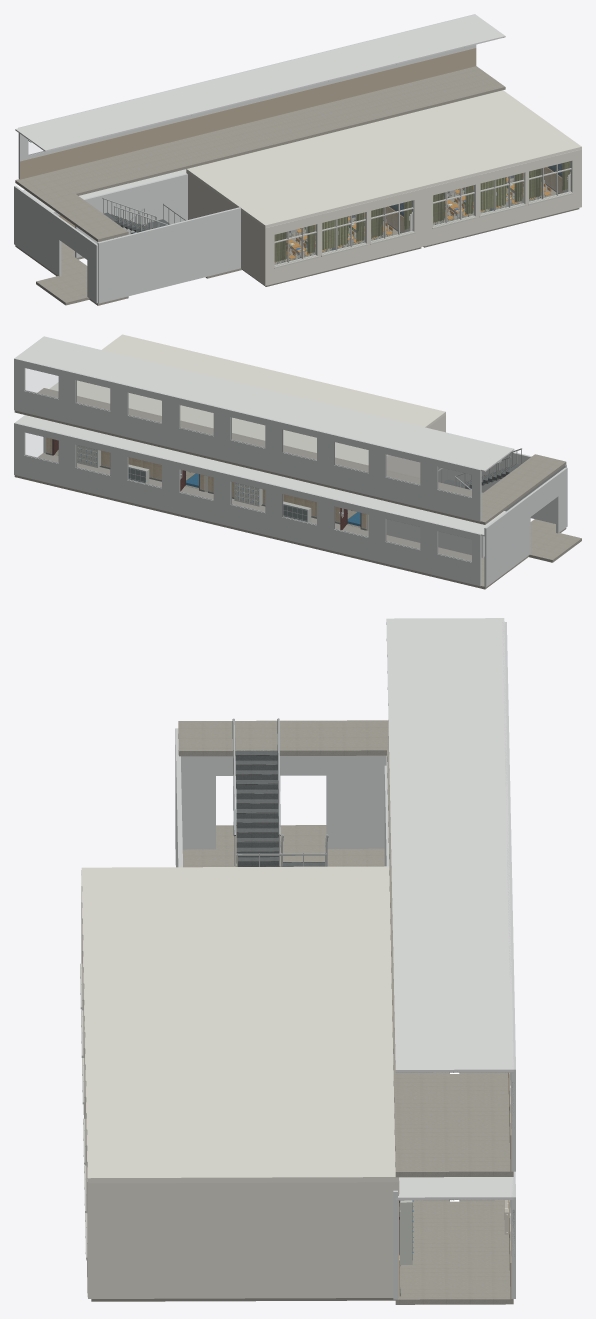
The model's file is b15_interior.glb.
3 renders of one model, top to bottom at view 1: azimuth 30°, elevation 25°; view 2: azimuth 150°, elevation 25°; view 3: azimuth 270°, elevation 25°, orthographic. The views are drawn at different scales.
Visible parts, largest first — view 1: 致远楼 01-01 教室样板, 致远楼 01-02 教室样板, 楼道吊顶.001, 连续楼道楼板.001, 楼道纵墙.002, 楼道纵墙.004, 楼道横墙.001, 门厅和楼梯间地面.001, 门厅和楼梯间地面, 校道与首层门槛内侧接板, 楼道吊顶, 楼梯栏杆; view 2: 楼道纵墙.004, 楼道纵墙.001, 楼道吊顶.001, 致远楼 01-01 教室样板, 教学走廊侧窗浅蓝灰玻璃.001, 教学走廊侧窗浅蓝灰玻璃, 致远楼 01-02 教室样板, 楼道吊顶, 楼道横墙.001, 连续楼道楼板.001, 连续楼道楼板, 楼道纵墙.002 (+10 smaller); view 3: 致远楼 01-02 教室样板, 楼道吊顶.001, 致远楼 01-01 教室样板, 连续楼道楼板.001, 连续楼道楼板, 楼道横墙.001, 门厅和楼梯间地面.001, StairTreads, 楼道纵墙.004, 楼道吊顶, 门厅和楼梯间地面, 校道与首层门槛内侧接板 (+2 smaller).
Part boxes in pixels (x1,y1,x2,y2): 致远楼 01-01 教室样板: (186, 129, 423, 286); 致远楼 01-02 教室样板: (345, 90, 581, 247); 楼道吊顶.001: (15, 14, 505, 151); 连续楼道楼板.001: (15, 66, 505, 201); 楼道纵墙.002: (75, 173, 240, 303); 楼道纵墙.004: (18, 14, 476, 179); 楼道横墙.001: (14, 186, 97, 303); 门厅和楼梯间地面.001: (15, 173, 128, 241); 门厅和楼梯间地面: (15, 245, 128, 305); 校道与首层门槛内侧接板: (36, 276, 89, 305); 楼道吊顶: (24, 169, 186, 213); 楼梯栏杆: (103, 199, 163, 238); 楼道纵墙.004: (14, 358, 481, 521); 楼道纵墙.001: (14, 422, 481, 586); 楼道吊顶.001: (15, 336, 514, 471); 致远楼 01-01 教室样板: (206, 373, 445, 530); 教学走廊侧窗浅蓝灰玻璃.001: (25, 368, 471, 496); 教学走廊侧窗浅蓝灰玻璃: (25, 433, 471, 560); 致远楼 01-02 教室样板: (45, 334, 283, 491); 楼道吊顶: (15, 415, 505, 536); 楼道横墙.001: (484, 467, 567, 586); 连续楼道楼板.001: (14, 388, 513, 524); 连续楼道楼板: (14, 453, 484, 589); 楼道纵墙.002: (386, 452, 566, 557); 致远楼 01-02 教室样板: (83, 1022, 400, 1301); 楼道吊顶.001: (386, 618, 513, 1072); 致远楼 01-01 教室样板: (80, 866, 392, 1118); 连续楼道楼板.001: (386, 720, 513, 1177); 连续楼道楼板: (395, 1200, 513, 1304); 楼道横墙.001: (181, 755, 386, 849); 门厅和楼梯间地面.001: (178, 720, 388, 756); StairTreads: (236, 750, 324, 866); 楼道纵墙.004: (502, 622, 515, 1171); 楼道吊顶: (386, 756, 513, 1200); 门厅和楼梯间地面: (182, 848, 384, 867); 校道与首层门槛内侧接板: (216, 825, 326, 848).
Bounding box in the file's own units: 30.64 × 7.07 × 11.9.
Materials: 59 (18 with a texture image).
